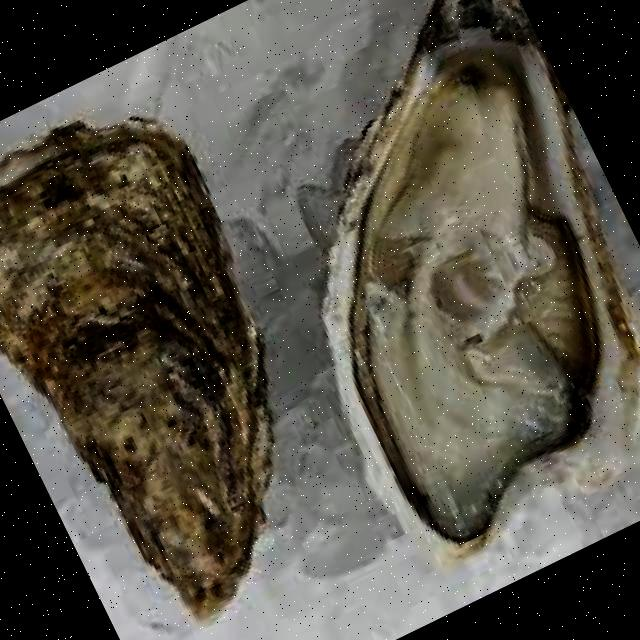Oyster-Closed: (0, 120, 271, 616)
Oyster-Open: (325, 0, 598, 541)
